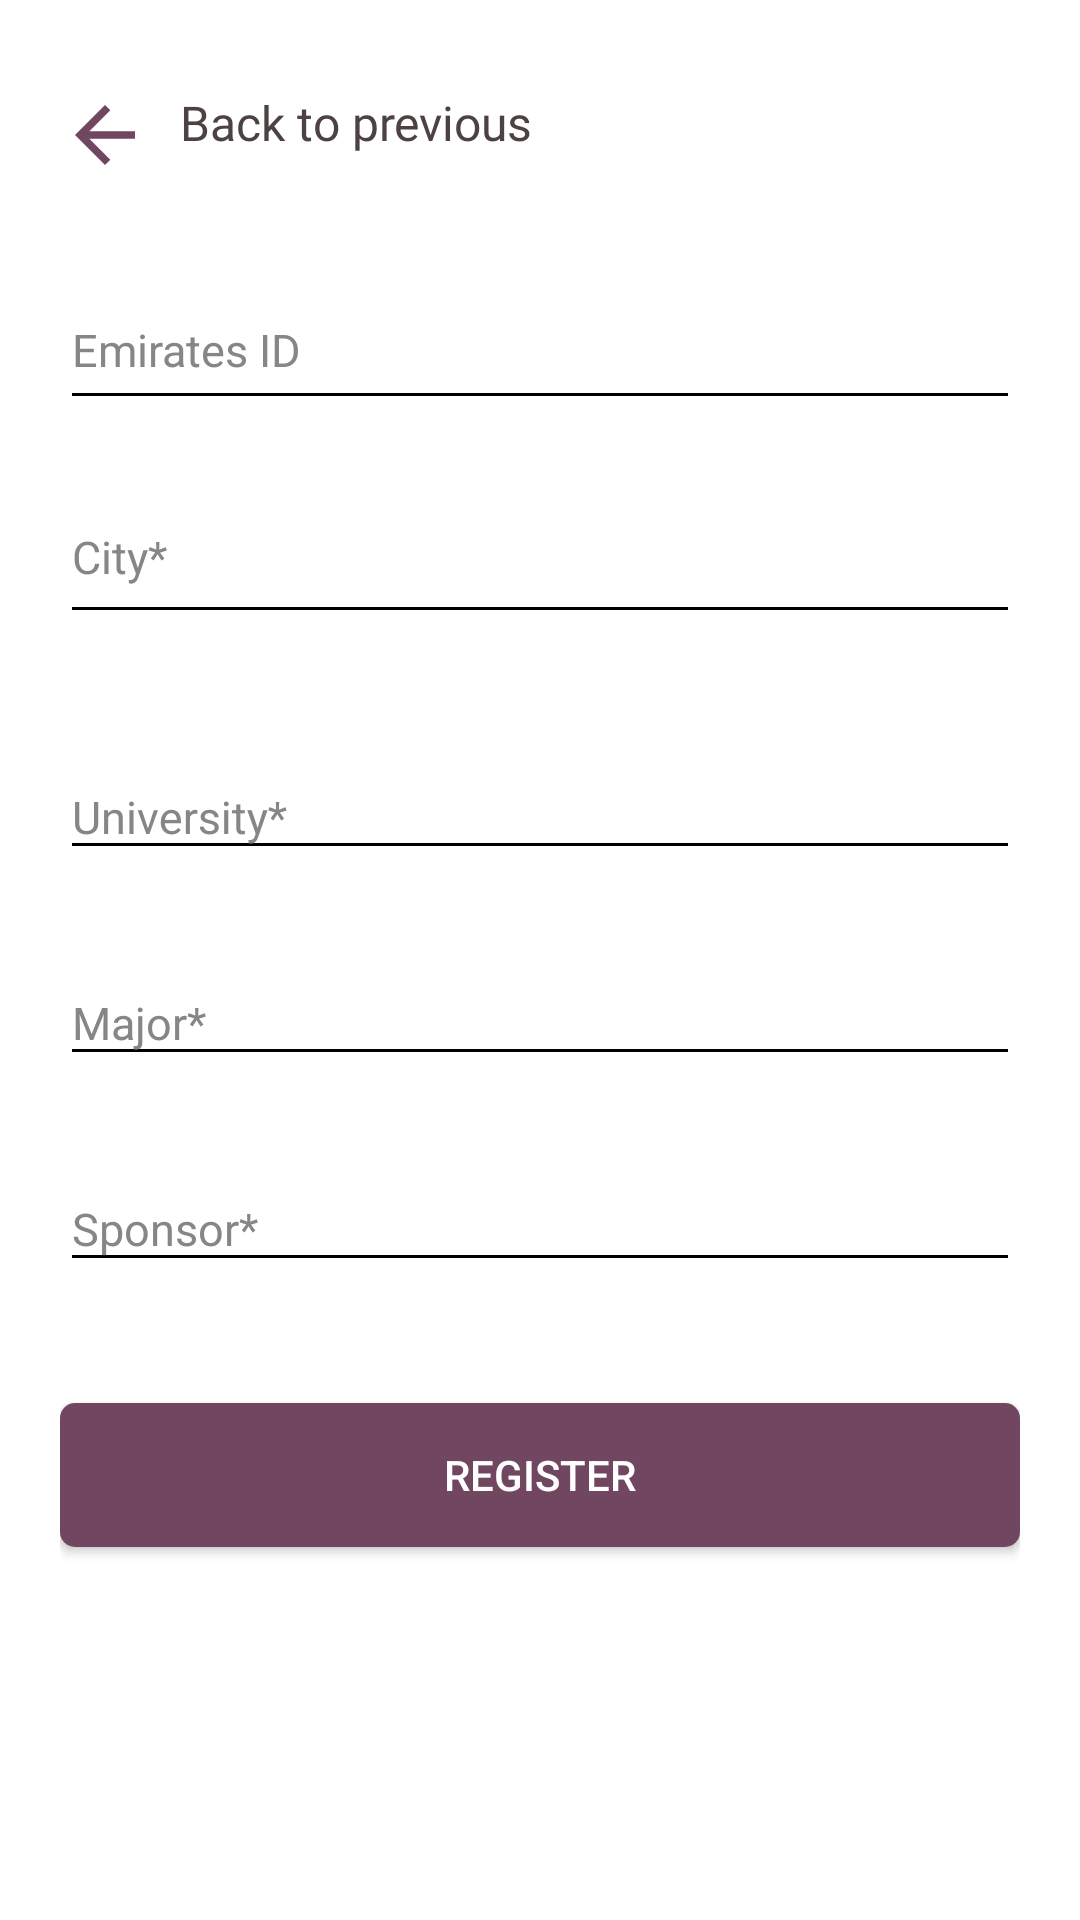

Named icons in this screenshot (1080*1920) and their centers, (x=x, y=y):
arrow back: (x=105, y=135)
